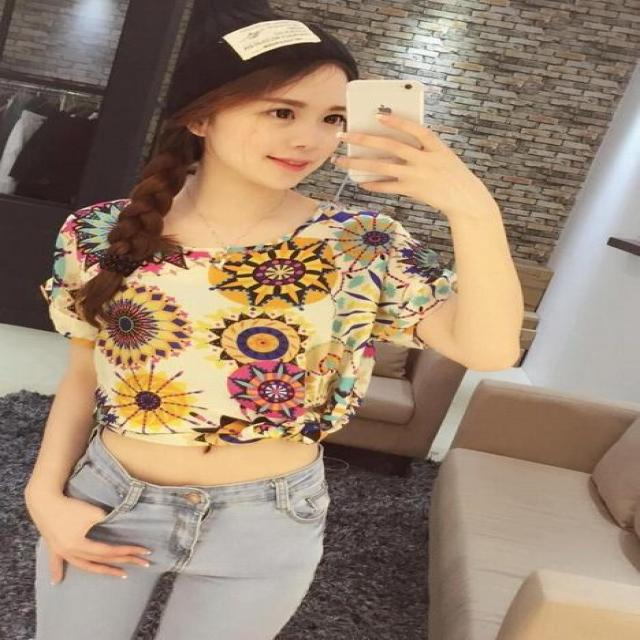short sleeve top: (46, 199, 469, 443)
trousers: (38, 431, 325, 639)
